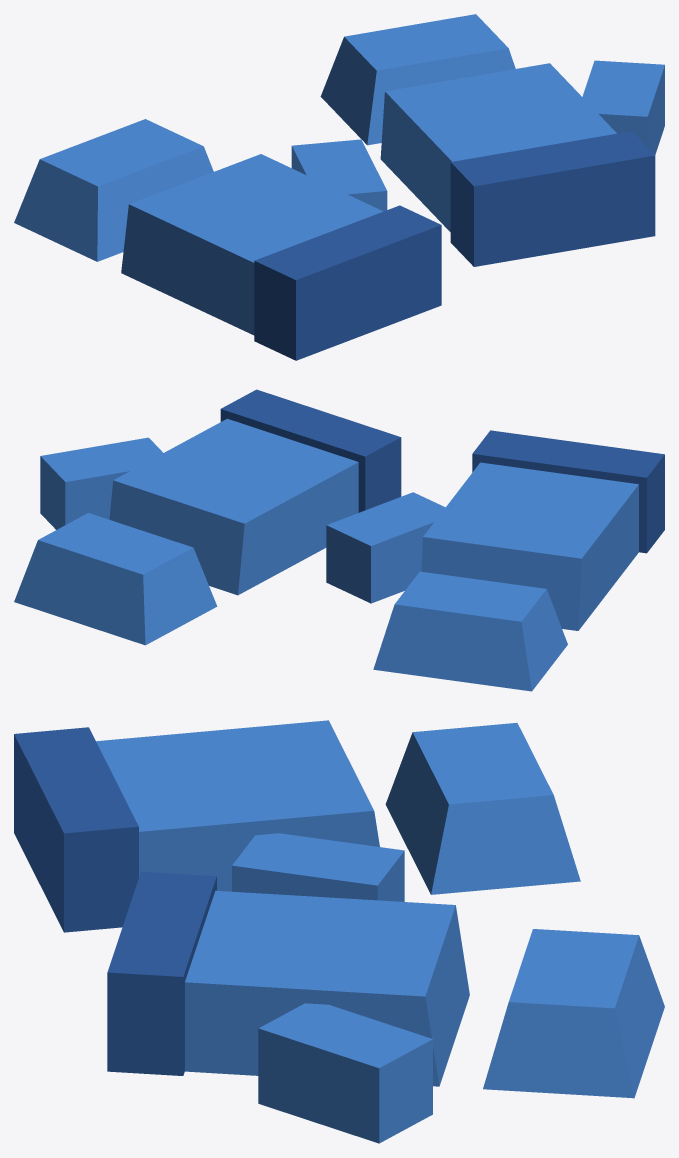
The model's file is gloves.glb.
3 views of the same model, one above another, from view 1: azimuth 30°, elevation 25°; view 2: azimuth 150°, elevation 25°; view 3: azimuth 270°, elevation 25° (orthographic). The views are drawn at different scales.
Parts seen in each view (by area): view 1: gloves; view 2: gloves; view 3: gloves.
Part boxes in pixels (x1=…): gloves: x1=14, y1=14, x2=664, y2=360; gloves: x1=14, y1=389, x2=664, y2=691; gloves: x1=14, y1=720, x2=664, y2=1143.
Bounding box in the file's own units: 0.3813 × 0.05 × 0.2975.
Materials: 1 (1 with a texture image).
